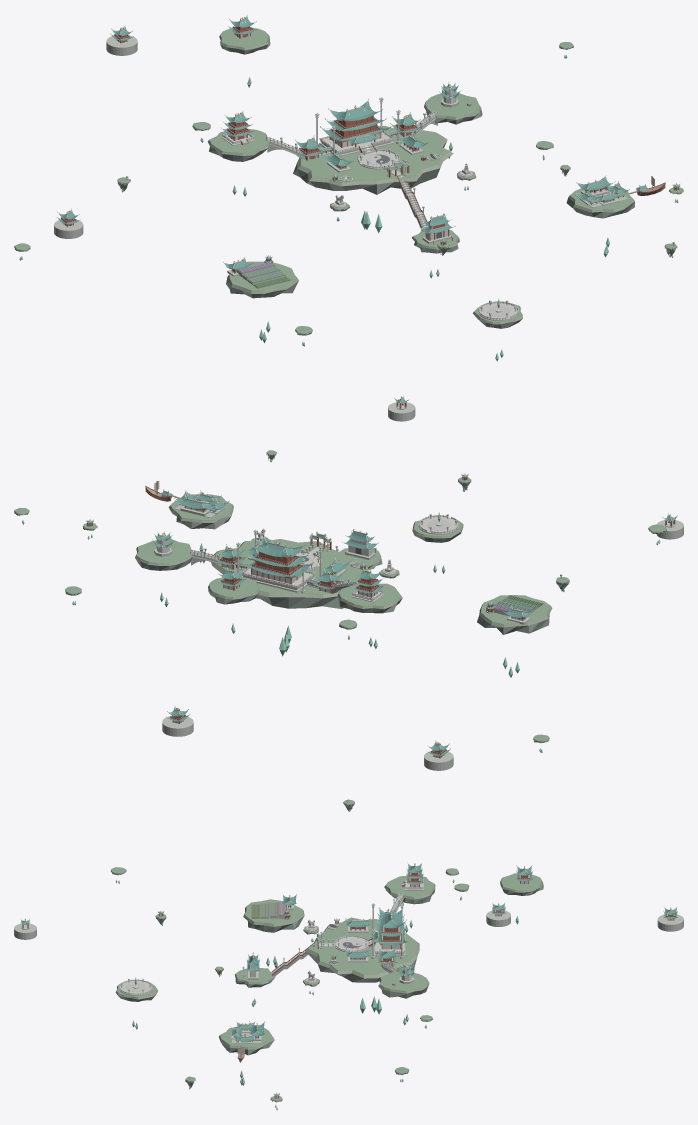
Rendered from sect_luoyun.glb.
3 renders of one model, top to bottom at view 1: azimuth 30°, elevation 25°; view 2: azimuth 150°, elevation 25°; view 3: azimuth 270°, elevation 25°, orthographic. The views are drawn at different scales.
Parts seen in each view (by area): view 1: sect_luoyun; view 2: sect_luoyun; view 3: sect_luoyun.
Part boxes in pixels (<box>): sect_luoyun: <box>14,14,683,421</box>; sect_luoyun: <box>14,450,683,770</box>; sect_luoyun: <box>14,799,683,1109</box>.
Bounding box in the file's own units: 1334 × 418 × 1630.
